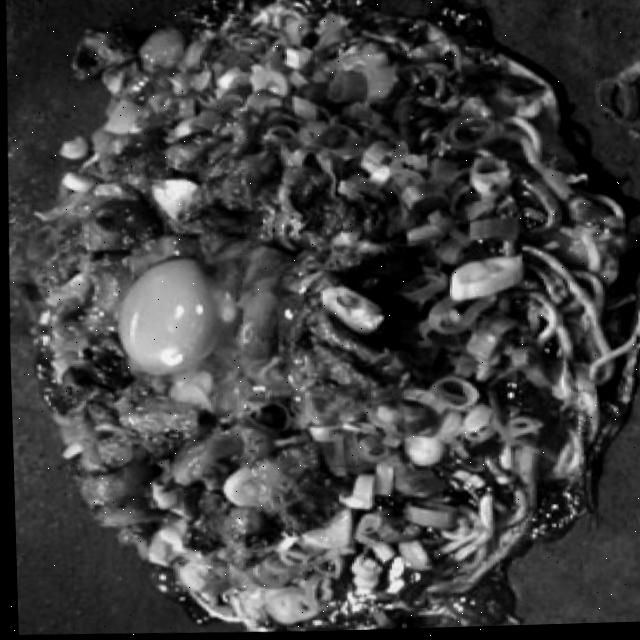蛋糕甜品: (11, 0, 640, 640)
